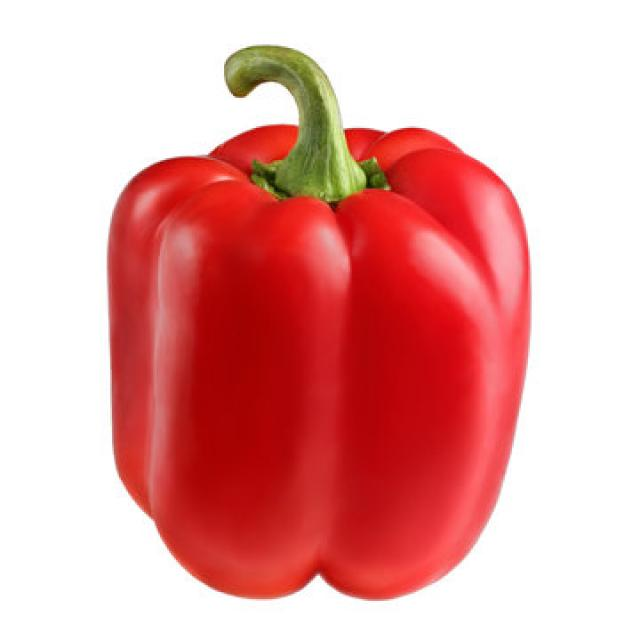Bell Pepper: (105, 43, 531, 601)
